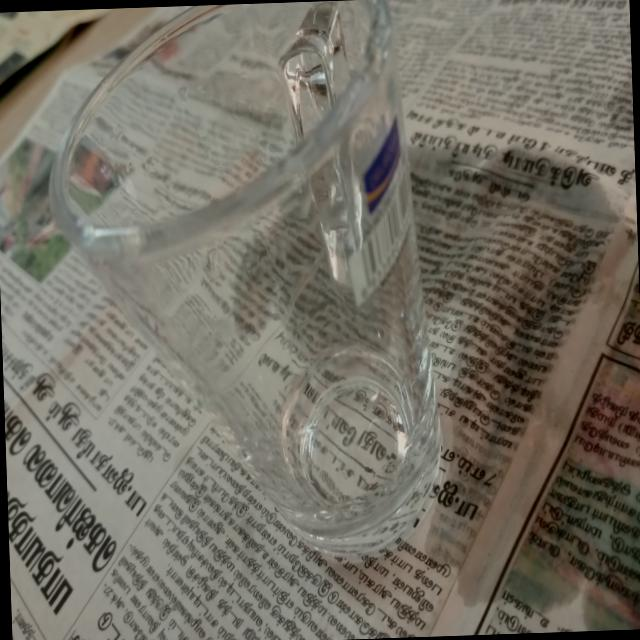glass-VX4N: (39, 0, 443, 565)
